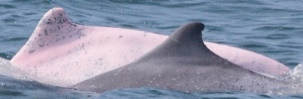fin: (71, 21, 288, 94)
